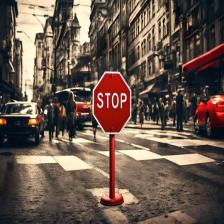Stop-sign: (91, 68, 134, 139)
